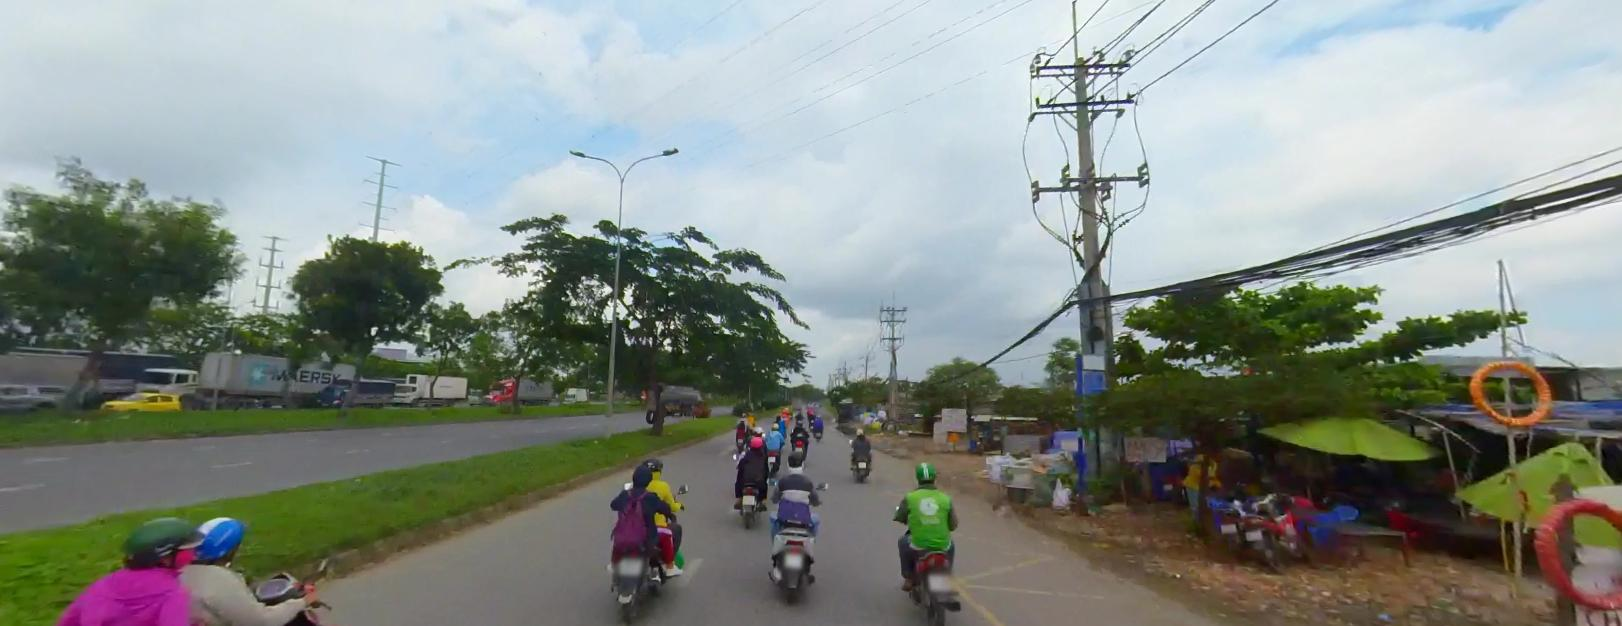Nguy hiem: (947, 429, 960, 441)
